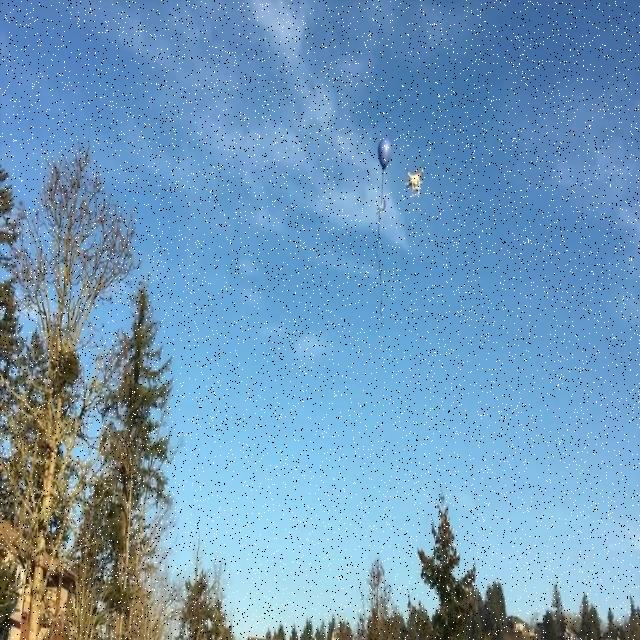UAV: (404, 168, 424, 196)
